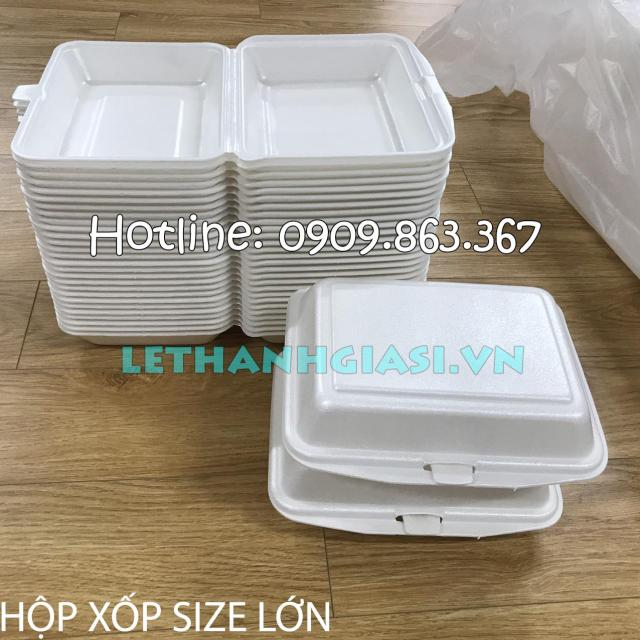styrofoam: (10, 31, 456, 346), (266, 276, 608, 540)
